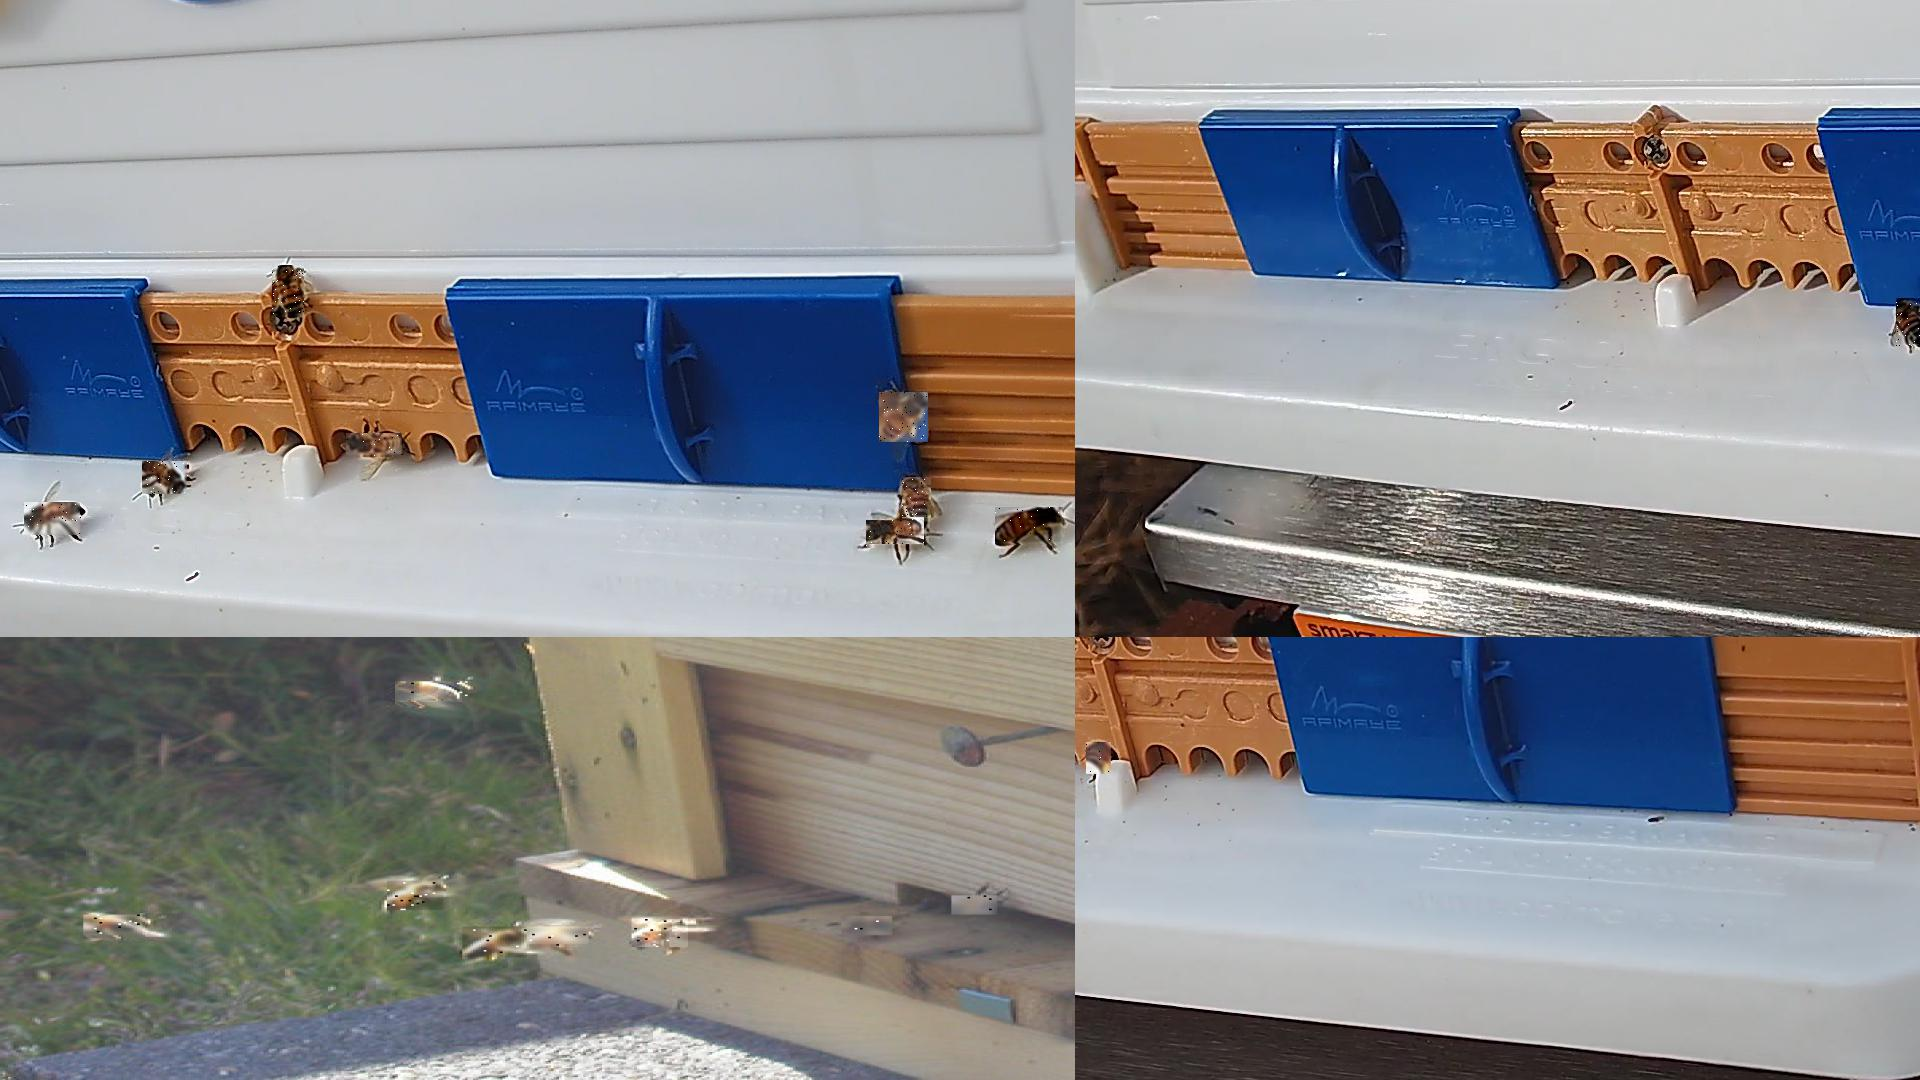bee: (996, 508, 1065, 546), (463, 926, 530, 959), (25, 502, 83, 538), (634, 918, 699, 948), (398, 683, 473, 708), (386, 881, 446, 913), (272, 265, 305, 318), (866, 521, 926, 549), (142, 462, 190, 495), (86, 916, 150, 940), (522, 928, 592, 948), (902, 477, 932, 522), (347, 434, 404, 458), (1896, 298, 1919, 348), (953, 895, 1005, 916), (841, 916, 895, 936)
pollenbee: (880, 392, 930, 443), (1087, 742, 1112, 775)
